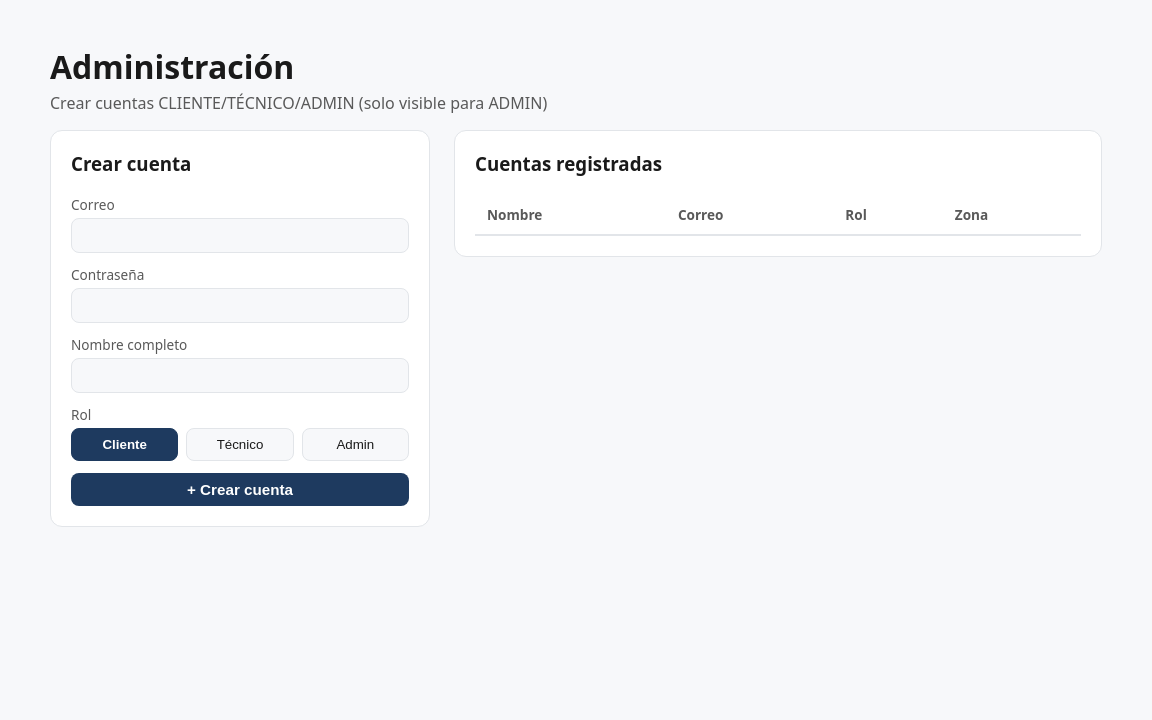
Test: AdminPage › muestra un error si faltan campos obligatorios
Click the button "+ Crear cuenta": click(240, 490) [71,473,409,506]
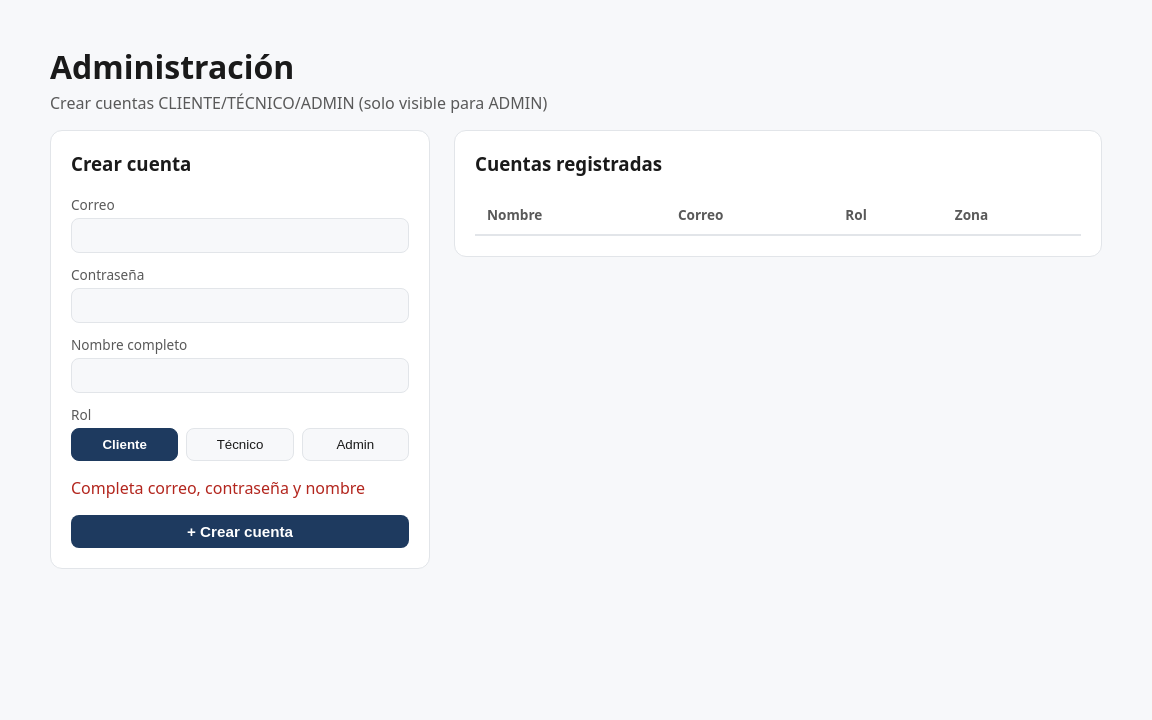
Now the text "Completa correo, contraseña y nombre" is shown, box [71,477,409,499]
